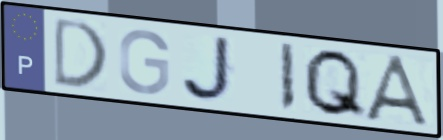A: (360, 52, 437, 131)
D: (51, 14, 110, 89)
G: (116, 27, 172, 97)
I: (277, 40, 297, 115)
J: (179, 34, 238, 104)
Q: (300, 46, 370, 122)
